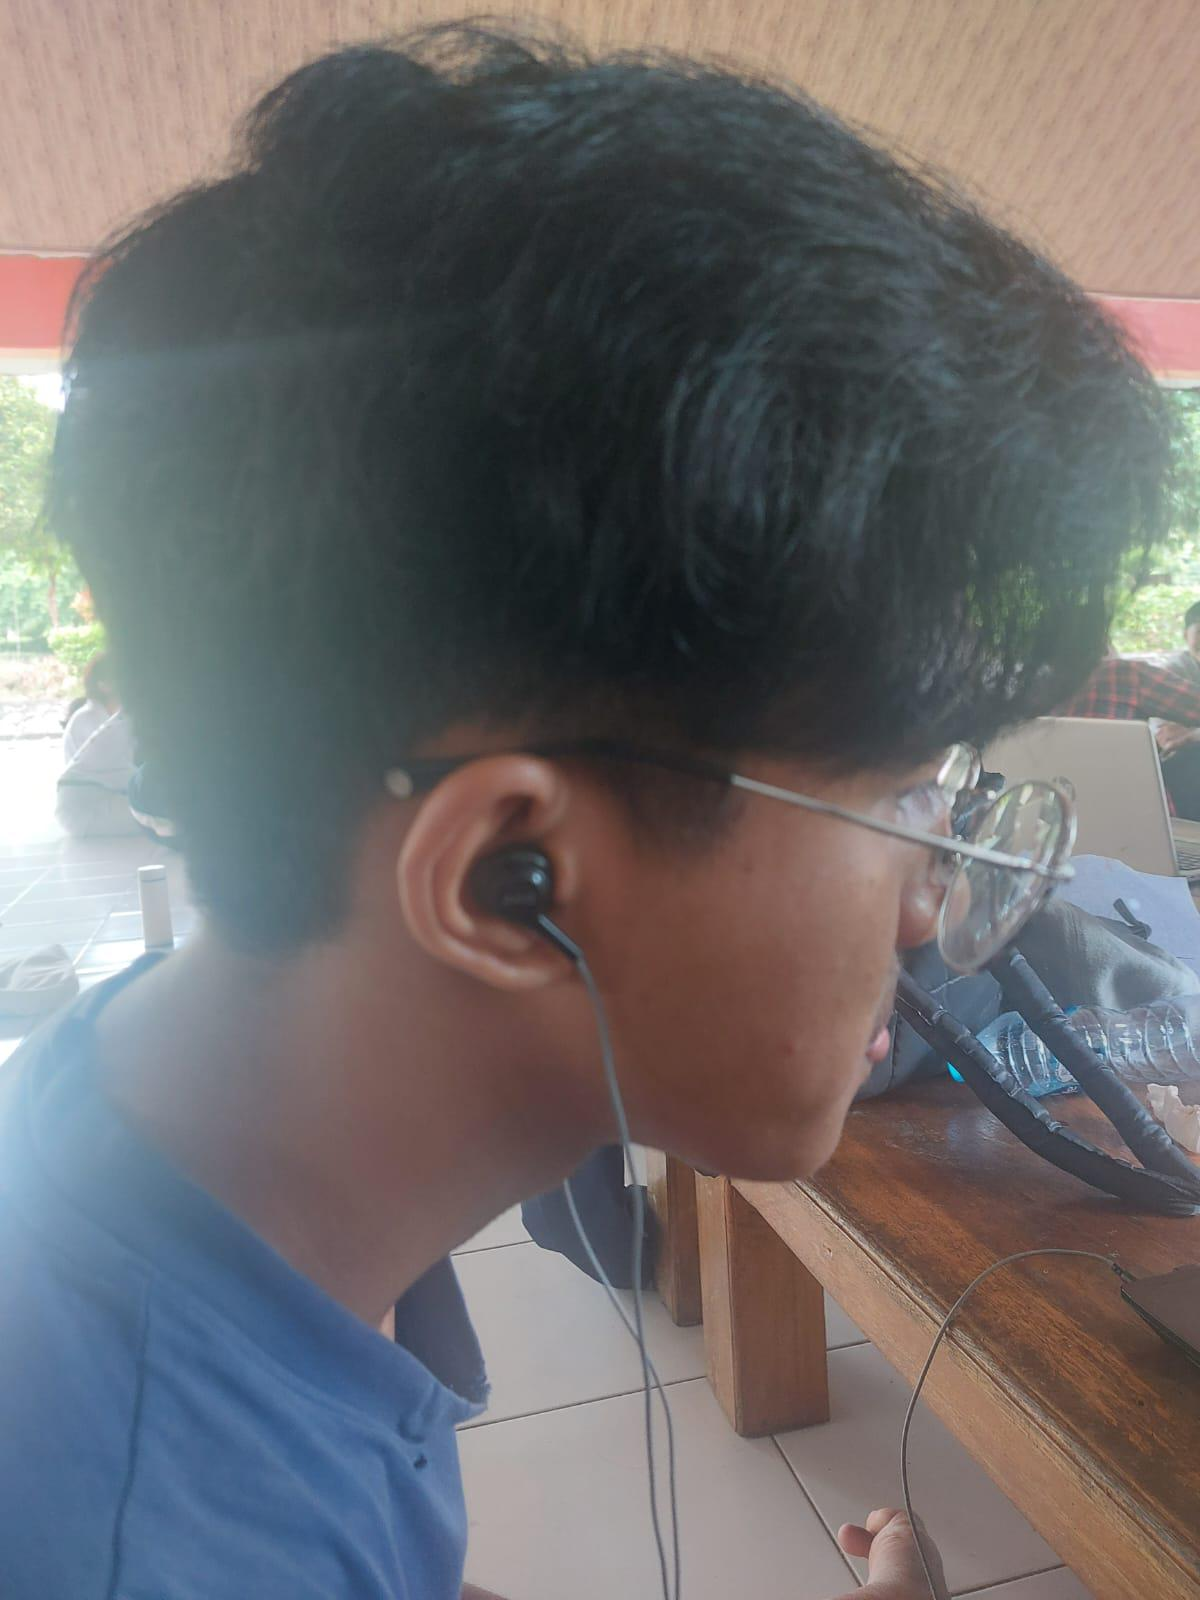Earphone: (450, 819, 609, 1002)
